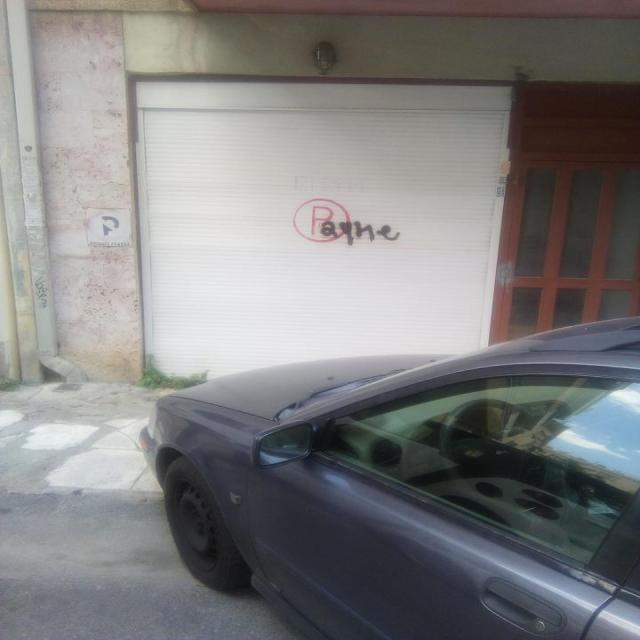nonspitting: (292, 197, 400, 245)
